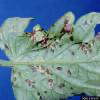Tomato leaf bacterial spot: (1, 14, 99, 99)
